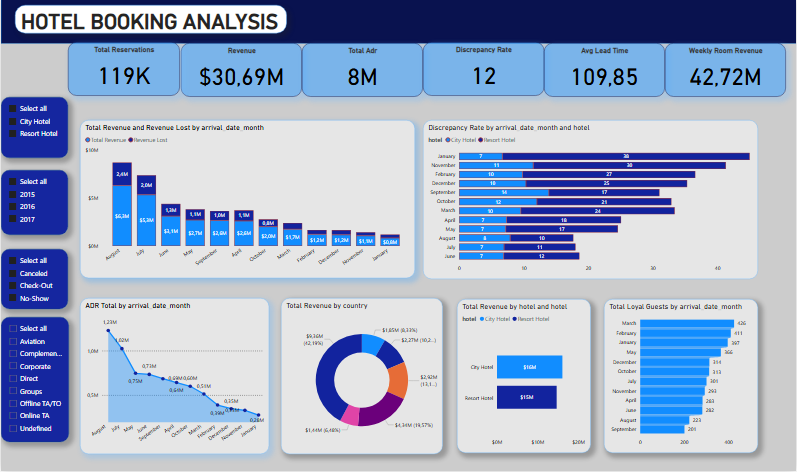

The dashboard page shown, as its layout file describes it:
{"tool":"powerbi","page":{"name":"Overview","canvas":[1850,1100],"ordinal":0},"visuals":[{"type":"columnChart","fields":{"Category":["hotel_bookings.arrival_month"],"Y":["Total Measures.Total Revenue","Total Measures.Revenue Lost"]},"box":[184.2,284.2,778.9,368.4],"z":0},{"type":"barChart","fields":{"Category":["hotel_bookings.arrival_month"],"Y":["Total Measures.Discrepancy Rate"],"Series":["hotel_bookings.hotel"]},"box":[981.2,283.8,778.8,369.6],"z":1000},{"type":"areaChart","fields":{"Category":["hotel_bookings.arrival_date_month"],"Y":["Total Measures.ADR Total"]},"box":[184.8,697.4,440,363],"z":2000},{"type":"barChart","fields":{"Y":["Total Measures.Total Revenue"],"Category":["hotel_bookings.hotel"],"Series":["hotel_bookings.hotel"]},"box":[1060.5,700,310.5,357.9],"z":3000},{"type":"shape","box":[0,-5.5,2300,110.6],"z":4000},{"type":"textbox","title":"HOTEL BOOKING ANALYSIS","box":[32.3,15.4,632.3,66.2],"z":5000},{"type":"card","title":"Revenue","fields":{"Values":["Total Measures.Total Revenue"]},"box":[418.8,104.3,281.2,124.6],"z":6000},{"type":"card","title":"Total Reservations","fields":{"Values":["Total Measures.Transactions"]},"box":[156.2,103.4,259.6,125.4],"z":8000},{"type":"card","title":"Total Adr","fields":{"Values":["Total Measures.ADR Total"]},"box":[700,104.3,281.2,124.6],"z":9000},{"type":"card","title":"Discrepancy Rate","fields":{"Values":["Total Measures.Discrepancy Rate"]},"box":[981.2,103.4,281.6,125.4],"z":10000},{"type":"card","title":"Avg Lead Time","fields":{"Values":["Total Measures.Avg Lead Time"]},"box":[1262.3,104.3,281.2,124.6],"z":11000},{"type":"card","title":"Weekly Room Revenue","fields":{"Values":["Total Measures.Weekly Room Revenue"]},"box":[1543.5,104.3,281.2,124.6],"z":12000},{"type":"slicer","fields":{"Values":["hotel_bookings.hotel"]},"box":[0,230.2,155.8,141.9],"z":13000},{"type":"slicer","fields":{"Values":["hotel_bookings.arrival_date_year"]},"box":[0,400,155.8,151.2],"z":14000},{"type":"slicer","fields":{"Values":["hotel_bookings.reservation_status"]},"box":[0,583.7,155.8,139.5],"z":15000},{"type":"donutChart","fields":{"Y":["Total Measures.Total Revenue"],"Series":["hotel_bookings.country"]},"box":[650,697.4,376.3,363.2],"z":16000},{"type":"barChart","fields":{"Category":["hotel_bookings.arrival_date_month"],"Y":["Total Measures.Total Loyal Guests"]},"box":[1402.3,700,358.1,358.1],"z":17000},{"type":"slicer","fields":{"Values":["hotel_bookings.market_segment"]},"box":[0,741.9,158.1,290.7],"z":18000}]}

Visuals, with their boxes in screenshot pixels (x1, y1, x2, y2), scaled from the page's 1850x1100 canvas onto the 797x472 screenshot:
columnChart - hotel_bookings.arrival_month x Total Measures.Total Revenue: pyautogui.locateOnScreen(79, 122, 415, 280)
barChart - hotel_bookings.arrival_month x Total Measures.Discrepancy Rate: pyautogui.locateOnScreen(423, 122, 758, 280)
areaChart - hotel_bookings.arrival_date_month x Total Measures.ADR Total: pyautogui.locateOnScreen(80, 299, 269, 455)
barChart - Total Measures.Total Revenue x hotel_bookings.hotel: pyautogui.locateOnScreen(457, 300, 591, 454)
shape: pyautogui.locateOnScreen(0, 0, 796, 45)
"HOTEL BOOKING ANALYSIS" textbox: pyautogui.locateOnScreen(14, 7, 286, 35)
"Revenue" card: pyautogui.locateOnScreen(180, 45, 302, 98)
"Total Reservations" card: pyautogui.locateOnScreen(67, 44, 179, 98)
"Total Adr" card: pyautogui.locateOnScreen(302, 45, 423, 98)
"Discrepancy Rate" card: pyautogui.locateOnScreen(423, 44, 544, 98)
"Avg Lead Time" card: pyautogui.locateOnScreen(544, 45, 665, 98)
"Weekly Room Revenue" card: pyautogui.locateOnScreen(665, 45, 786, 98)
slicer - hotel_bookings.hotel: pyautogui.locateOnScreen(0, 99, 67, 160)
slicer - hotel_bookings.arrival_date_year: pyautogui.locateOnScreen(0, 172, 67, 237)
slicer - hotel_bookings.reservation_status: pyautogui.locateOnScreen(0, 250, 67, 310)
donutChart - Total Measures.Total Revenue x hotel_bookings.country: pyautogui.locateOnScreen(280, 299, 442, 455)
barChart - hotel_bookings.arrival_date_month x Total Measures.Total Loyal Guests: pyautogui.locateOnScreen(604, 300, 758, 454)
slicer - hotel_bookings.market_segment: pyautogui.locateOnScreen(0, 318, 68, 443)
